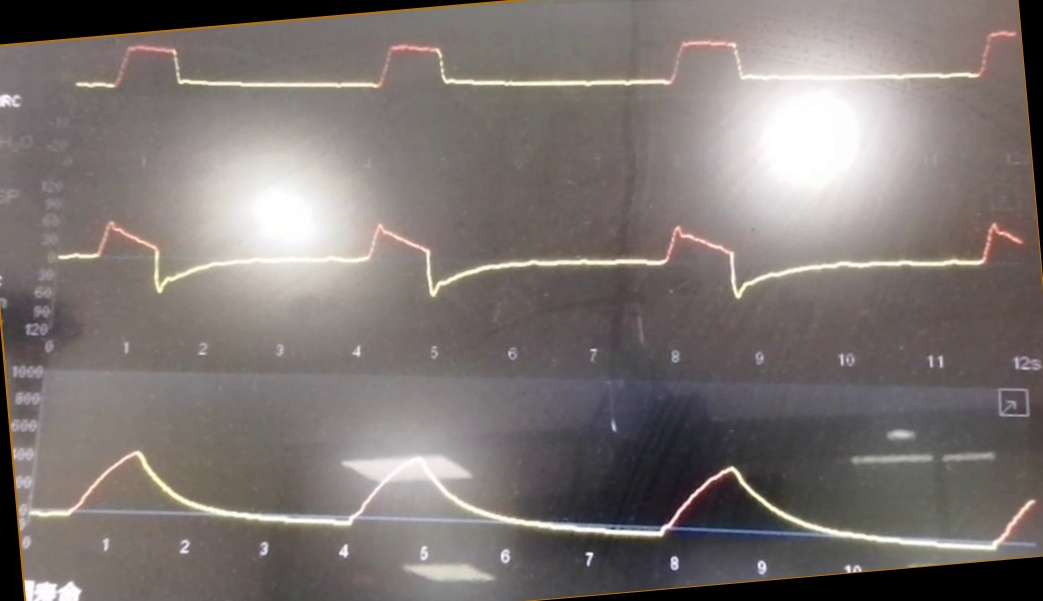Normal Flow: (62, 176, 1023, 326)
Normal Volume: (32, 404, 1033, 556)
